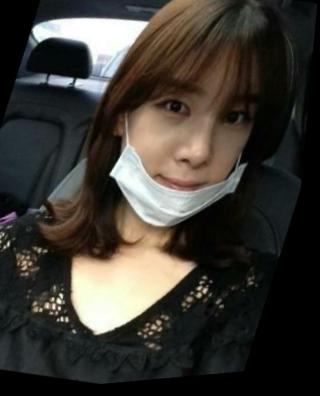WRONG: (91, 56, 283, 249)
